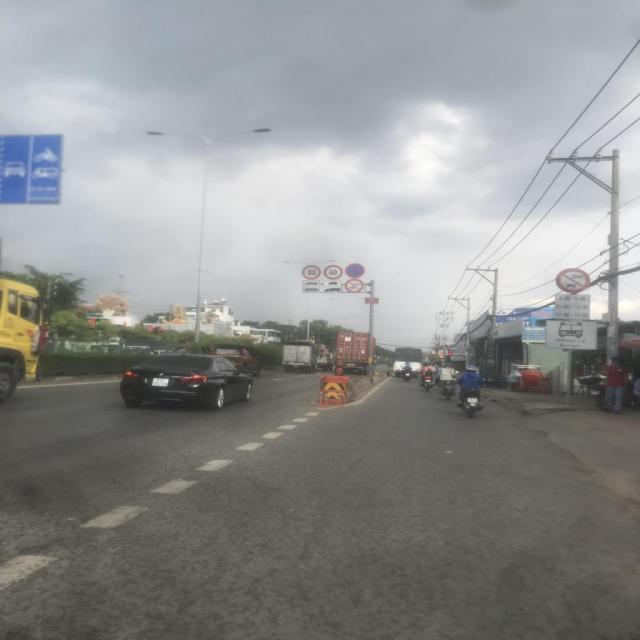107-cam-oto-khach-va-oto-tai: (554, 267, 590, 293)
127-toc-do-toi-da-60: (324, 264, 344, 280)
127-toc-do-toi-da-80: (302, 264, 322, 280)
